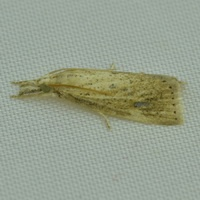insect: (11, 68, 185, 127)
